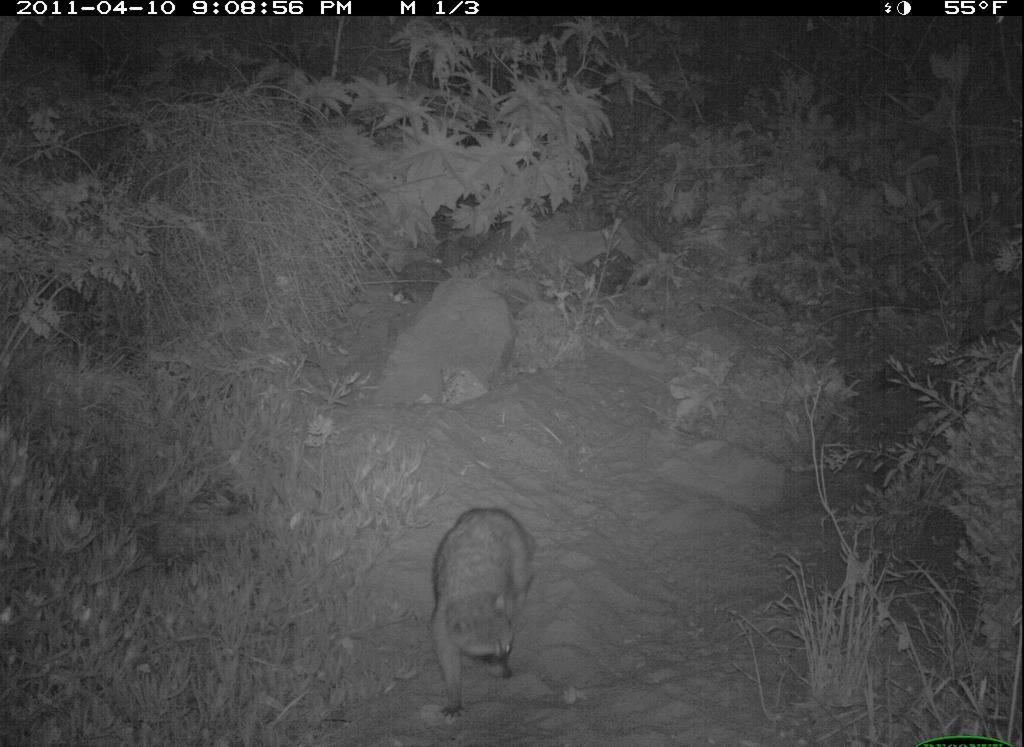raccoon: (427, 493, 555, 724)
